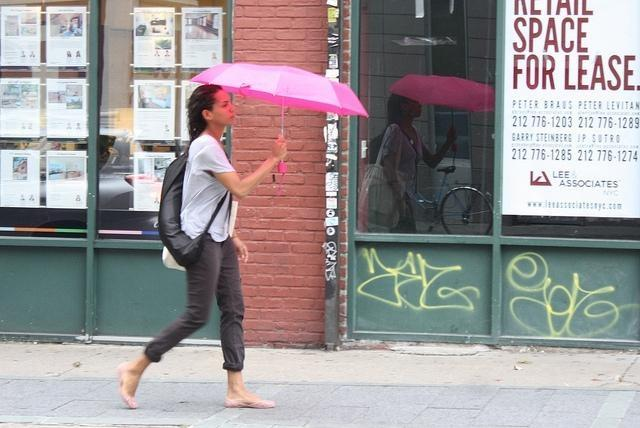bicycle: (398, 167, 493, 235)
